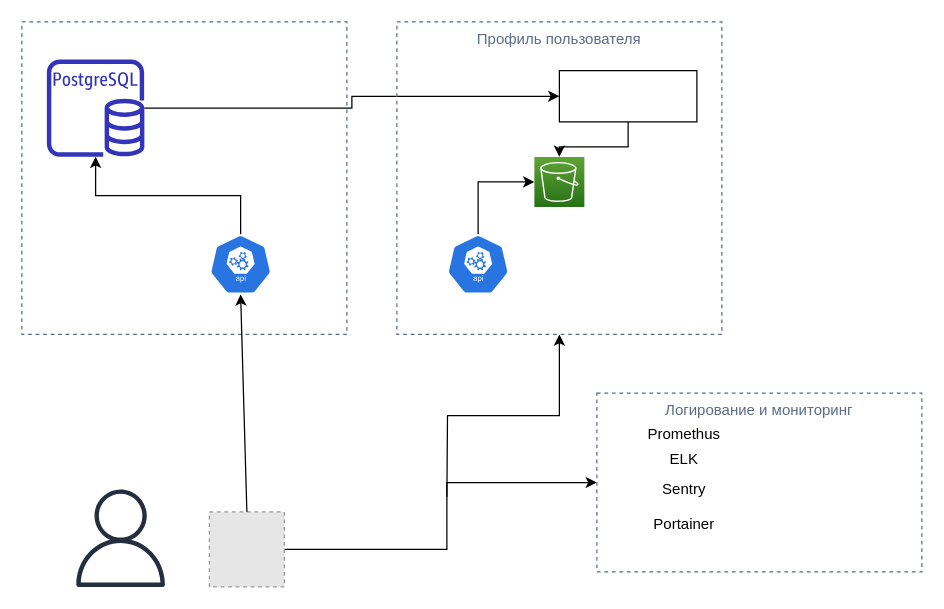
This 944x609 diagram has some shape labels left out. Grey dashed boxes stand in for pictures. The shapes that lost their labels are listed below. From the top down, each one's box as (x1, y1, x2, y2) in pixels, then its label:
(558, 69, 697, 122): Django Profile
(21, 21, 347, 334): Работа с коментариями + Лайки
